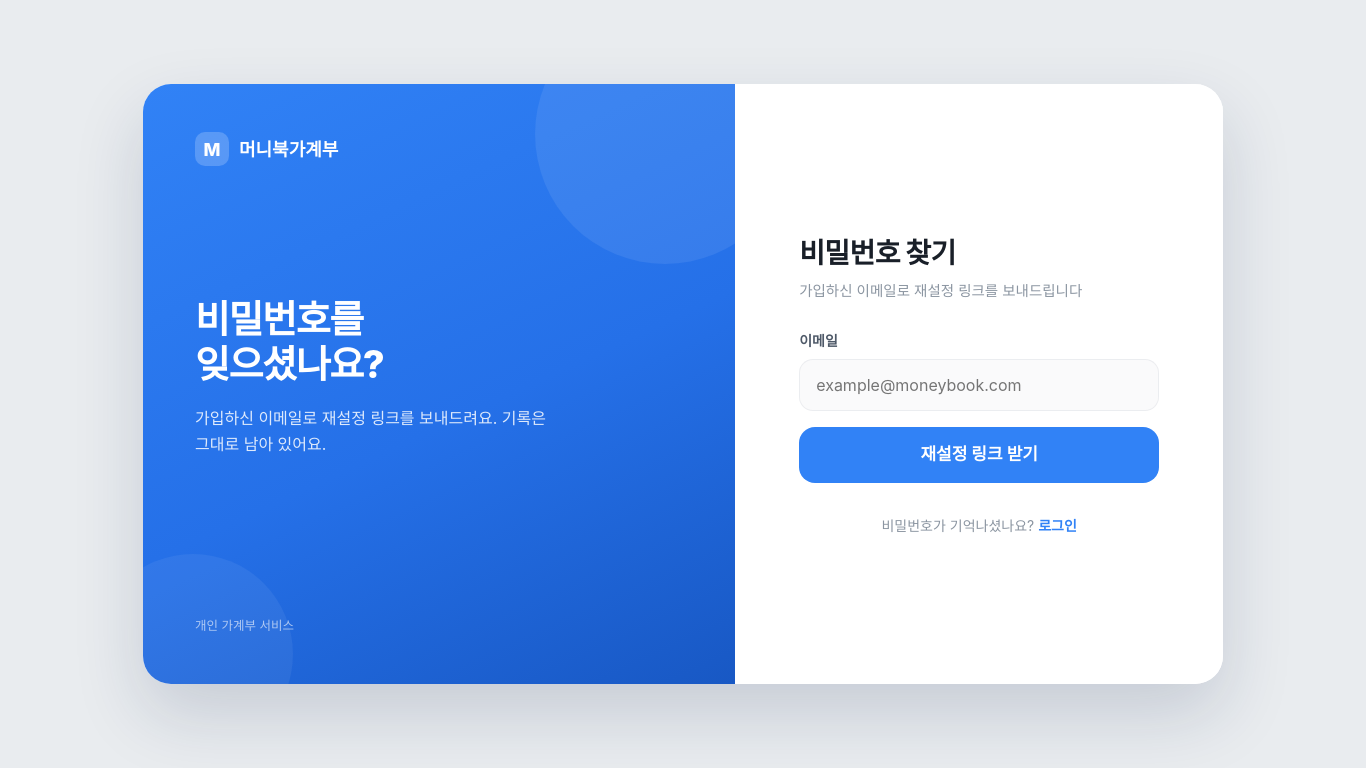
it: ForgotPasswordPage › shows the same completion screen when the request fails
In the field labelled "이메일": (979, 385) left=799, top=359, right=1159, bottom=411, type "nobody@example.com"
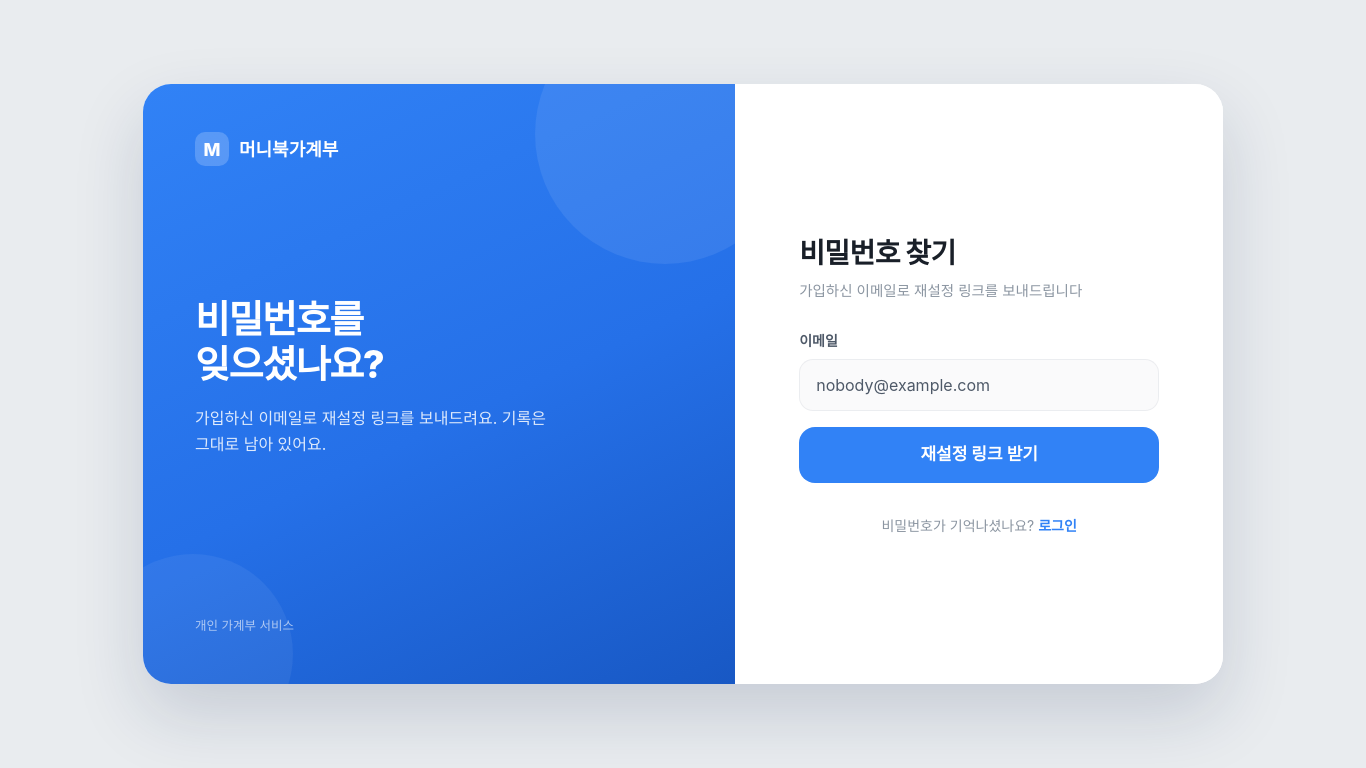
Click the button "재설정 링크 받기": (979, 455) left=799, top=427, right=1159, bottom=483
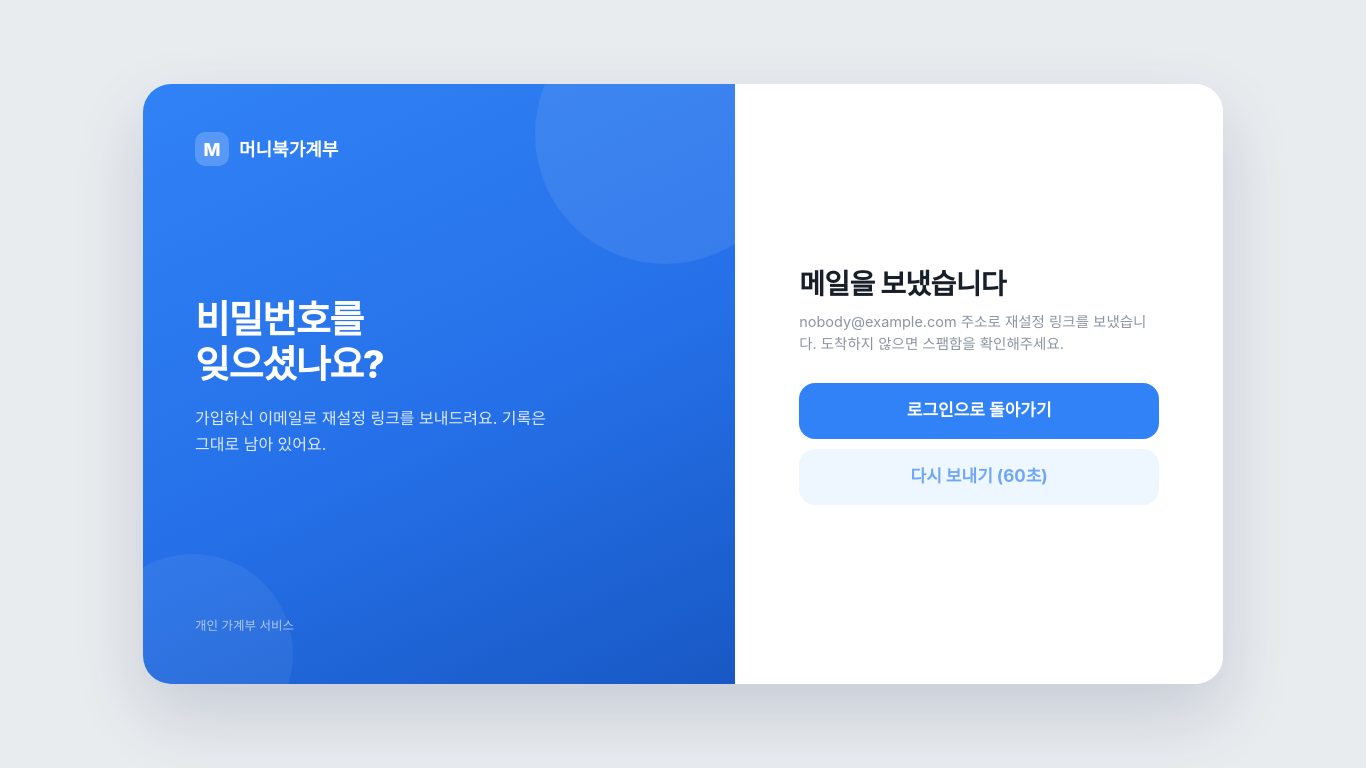
Now the heading "메일을 보냈습니다" is shown, box left=799, top=267, right=1006, bottom=301
Now the text "nobody@example.com 주소로 재설정 링크를 보냈습니다. 도착하지 않으면 스팸함을 확인해주세요." is shown, box left=799, top=311, right=1159, bottom=355
